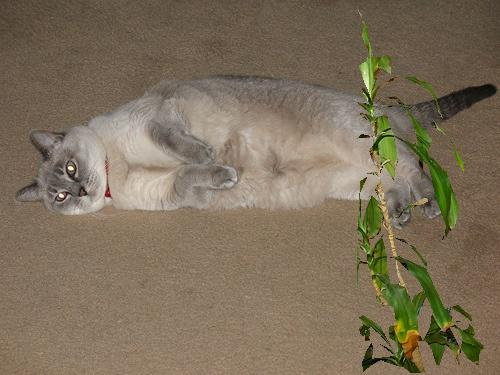tampered: (358, 10, 484, 373)
